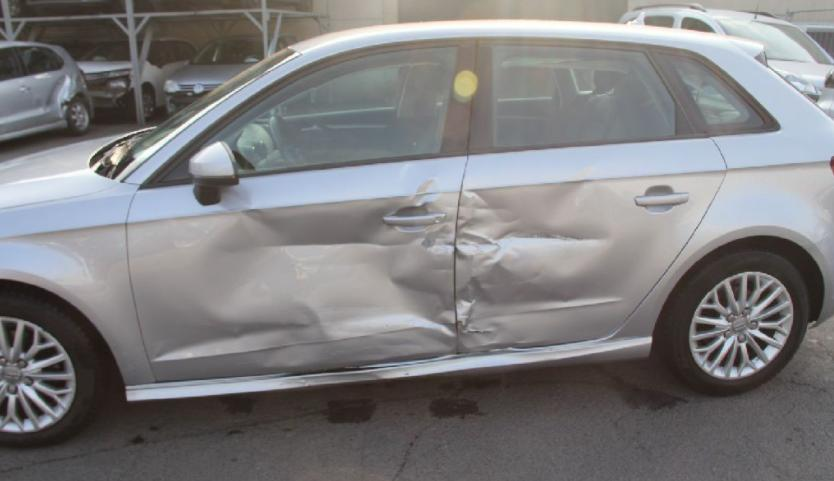Back-door: (453, 42, 725, 351)
Back-wheel: (659, 251, 804, 391)
Back-window: (491, 45, 676, 148), (672, 64, 750, 130)
Fender: (0, 184, 153, 384)
Front-door: (126, 41, 472, 382)
Front-wheel: (1, 297, 98, 443)
Front-window: (153, 49, 453, 183)
Hood: (0, 133, 133, 208)
Mirror: (189, 146, 236, 206)
Quarter-panel: (615, 162, 833, 341)
Rocker-panel: (126, 337, 650, 402)
Roof: (286, 20, 758, 63)
Windshield: (98, 50, 294, 178)
